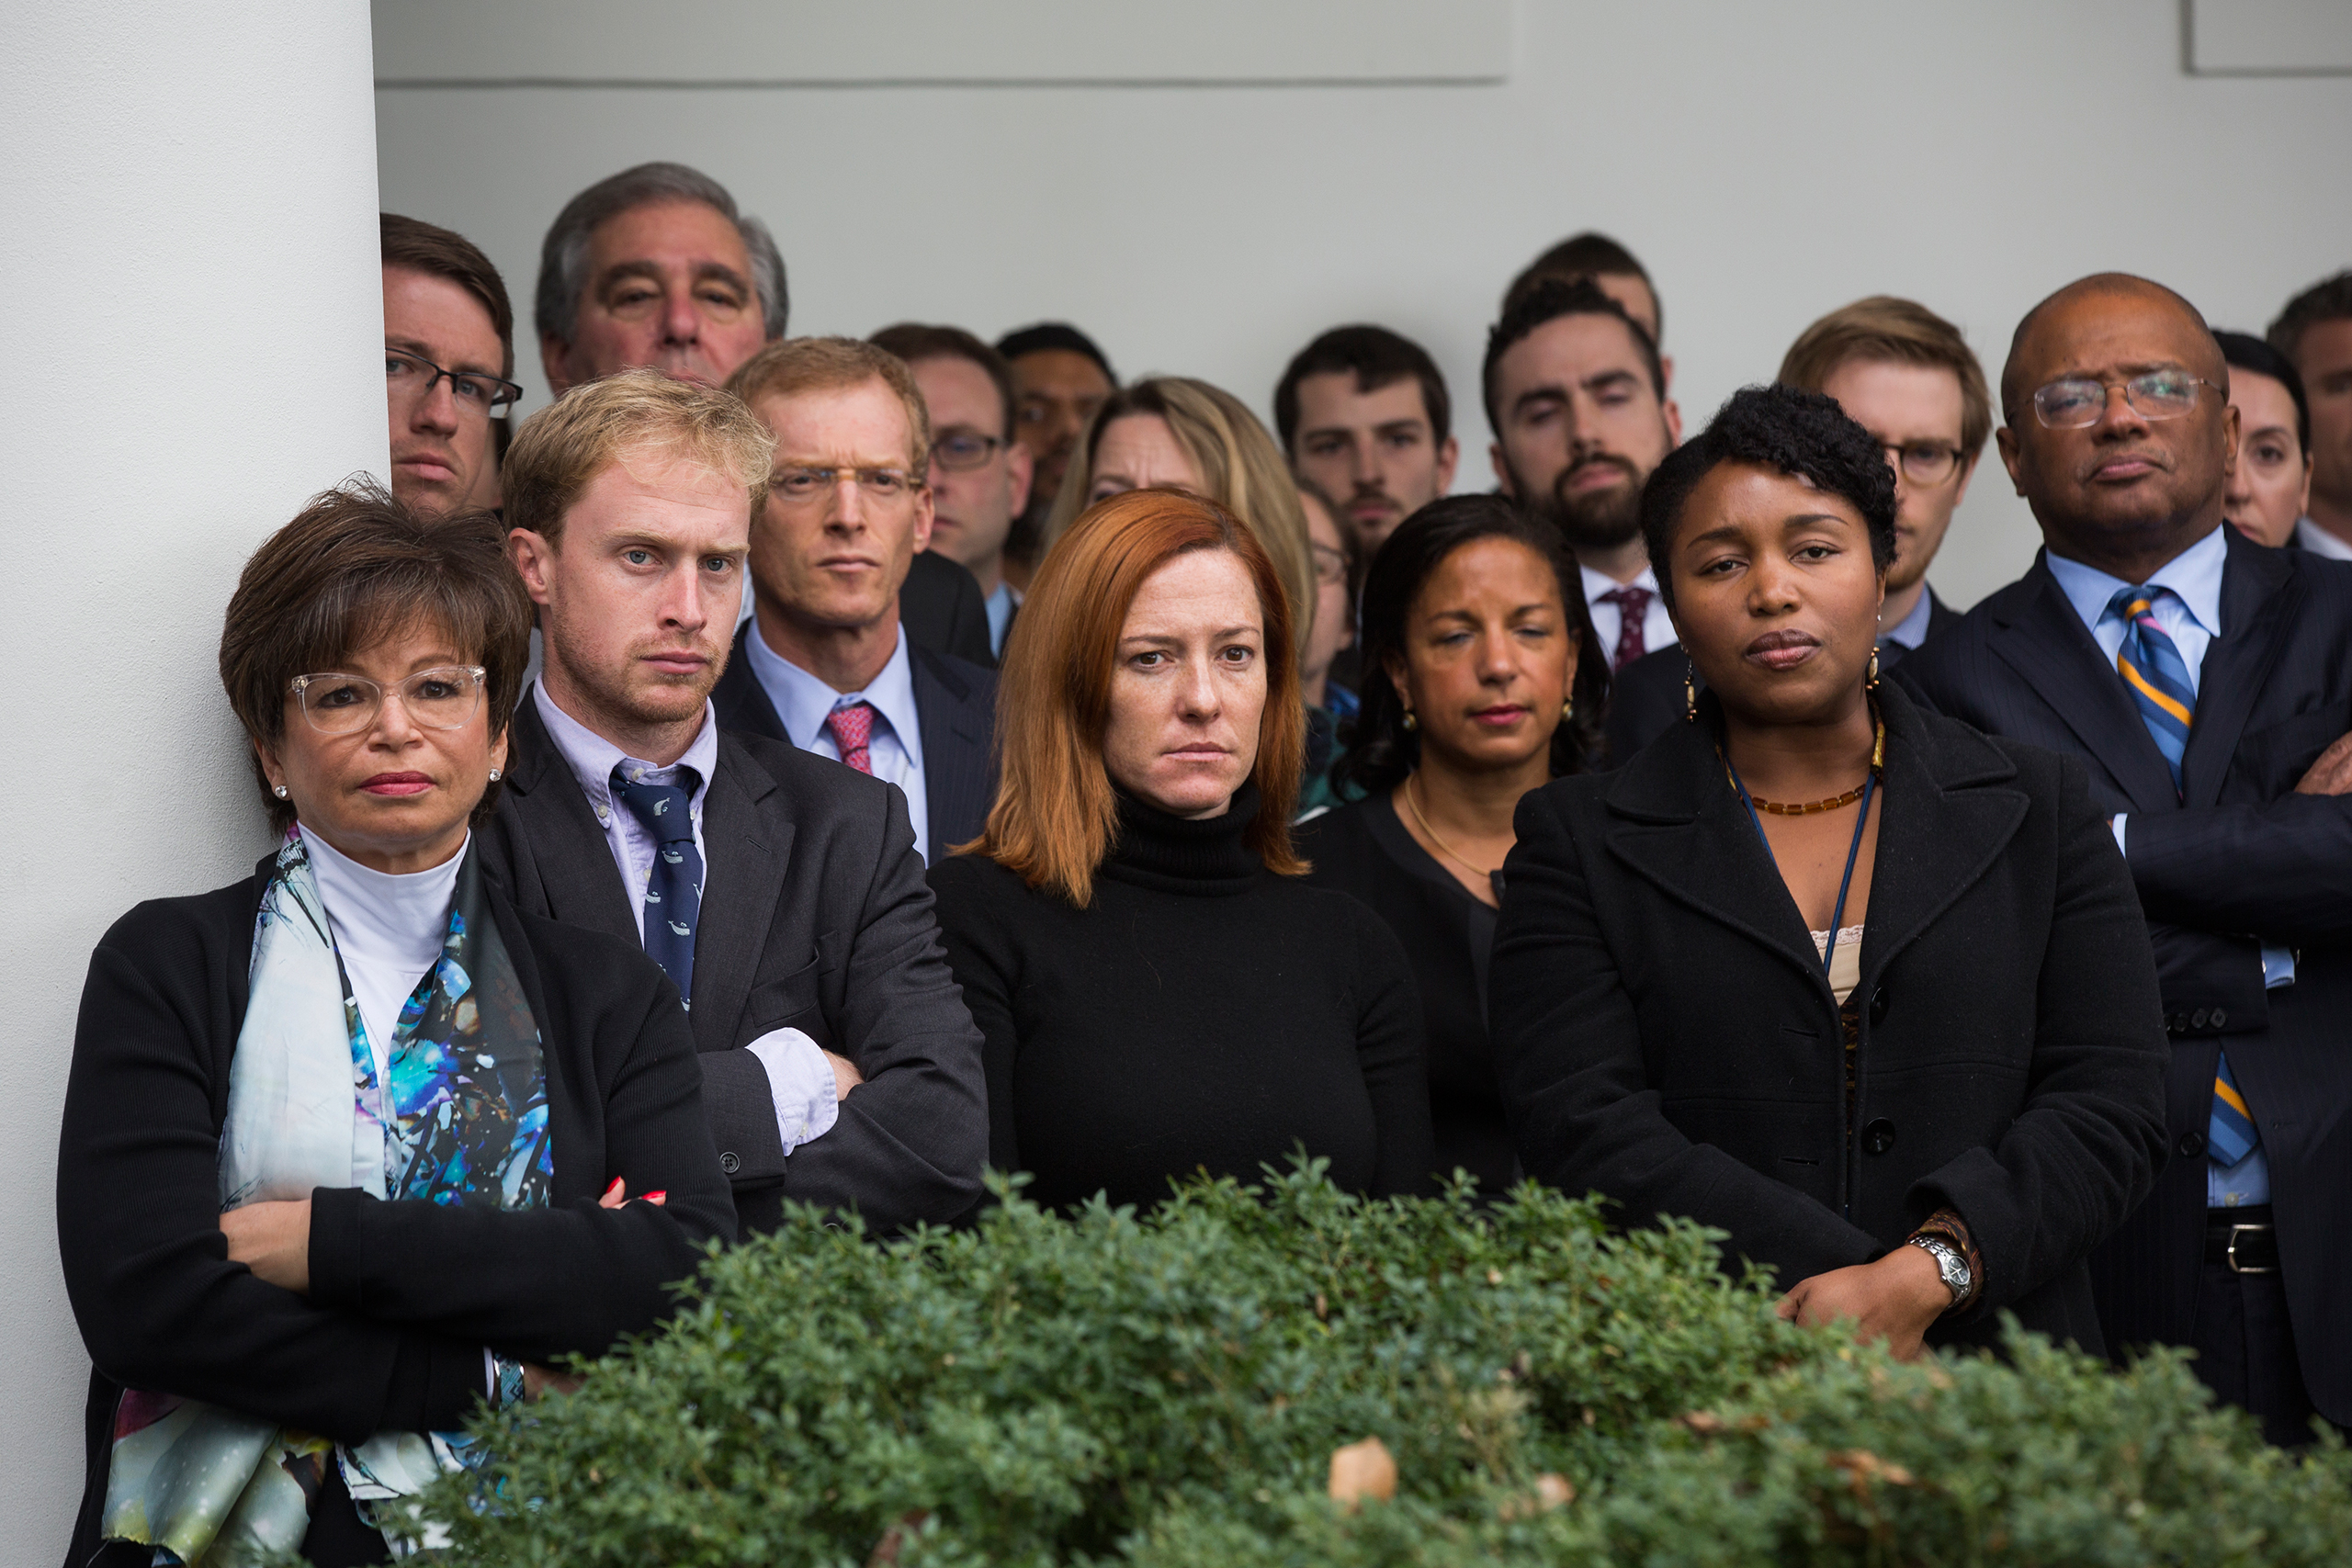sad: (240, 639, 531, 877), (1993, 302, 2230, 571), (1077, 566, 1306, 828), (560, 431, 760, 728), (1660, 482, 1895, 715)
